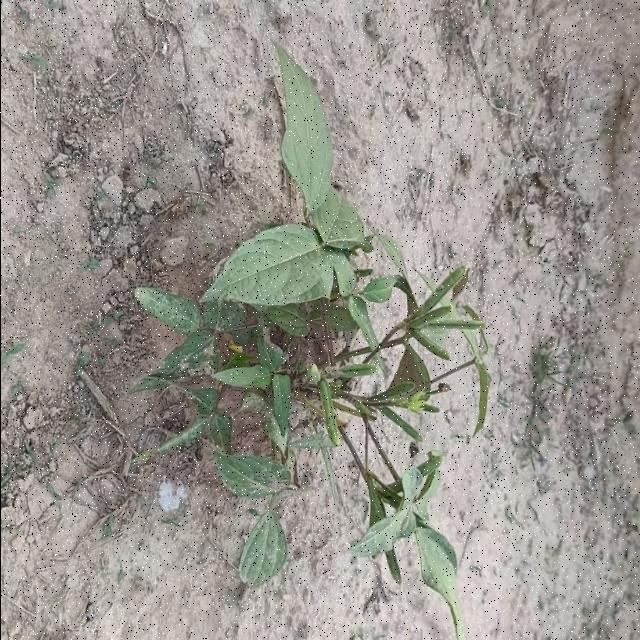plant: (135, 47, 489, 635)
